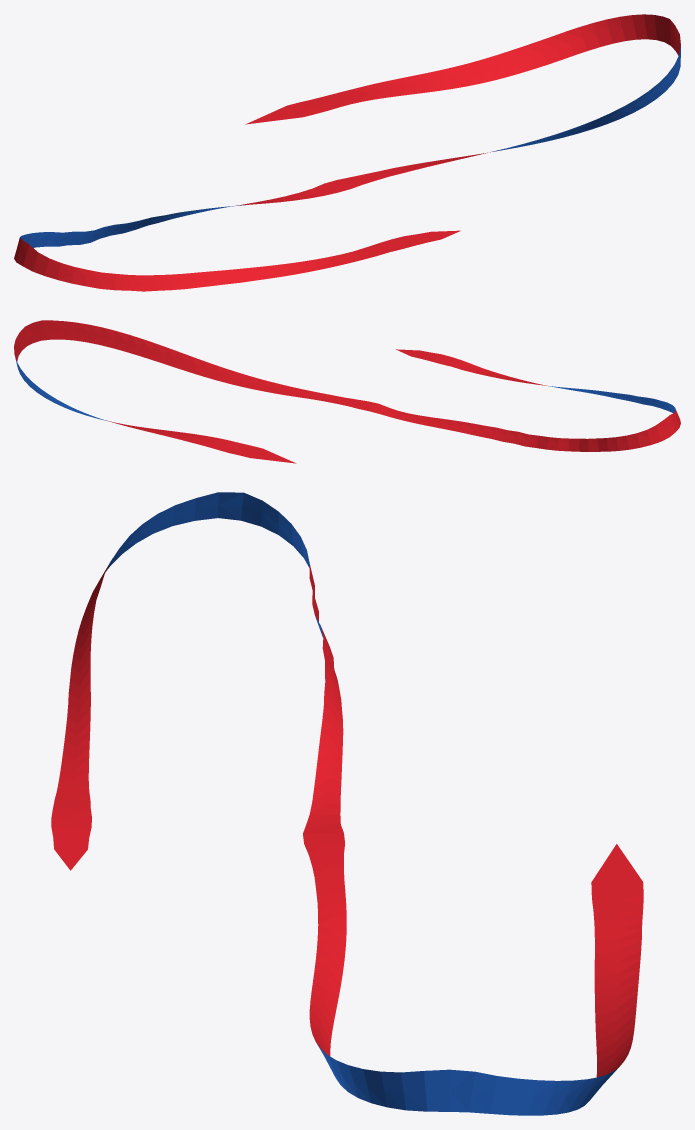
3 views of the same model, one above another, from view 1: azimuth 30°, elevation 25°; view 2: azimuth 150°, elevation 25°; view 3: azimuth 270°, elevation 25° (orthographic). The views are drawn at different scales.
Visible parts, largest first — view 1: 185_back; view 2: 185_back; view 3: 185_back.
Boxes of the visible parts, <box> form: 185_back: <box>14,14,680,291</box>; 185_back: <box>14,320,680,463</box>; 185_back: <box>51,492,643,1115</box>.
Bounding box in the file's own units: 2.59 × 0.2155 × 1.13.
